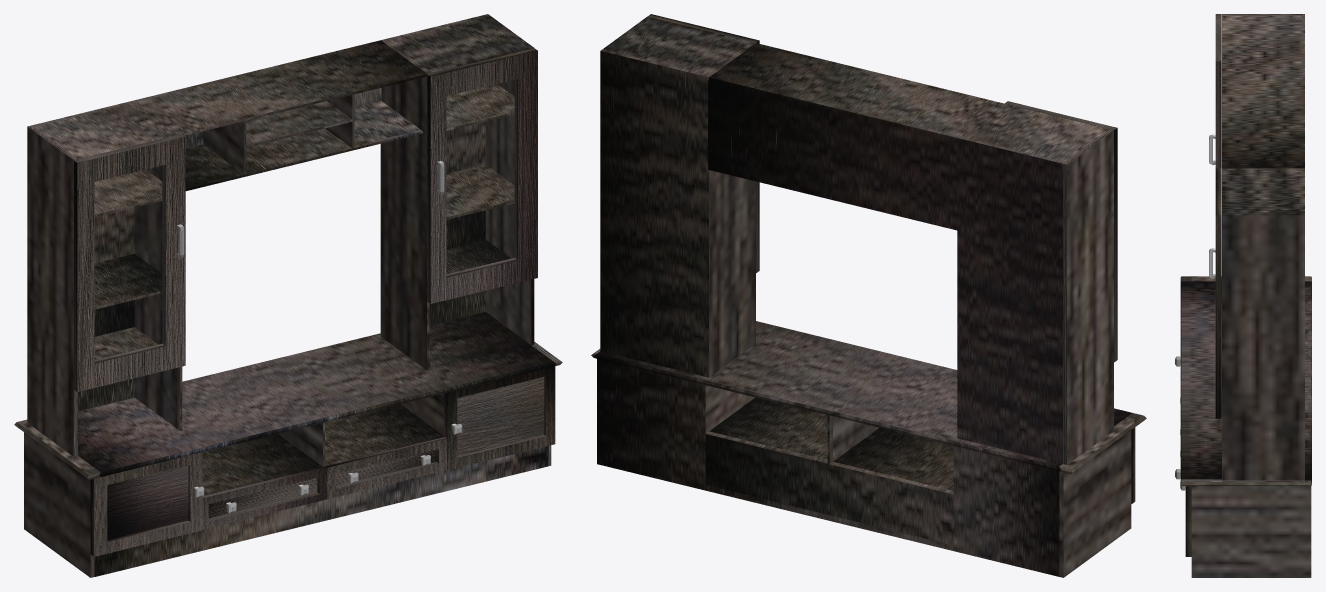
Rendered from royaloka_tvset.obj.
The picture shows the model from 3 angles, left to right: view 1: azimuth 30°, elevation 25°; view 2: azimuth 150°, elevation 25°; view 3: azimuth 270°, elevation 25°; orthographic projection. The views are drawn at different scales.
Visible parts, largest first — view 1: Cube.001, Cube.006_Cube.008, Cube.007_Cube.009, Cube.002_Cube.003, Cube.003_Cube.004, Cube.004_Cube.005, Cube.005_Cube.006; view 2: Cube.001, Cube.006_Cube.008, Cube.007_Cube.009; view 3: Cube.001, Cube.007_Cube.009, Cube.006_Cube.008, Cube.003_Cube.004.
Part boxes in pixels (left/top/right/bottom): Cube.001: left=14, top=14, right=562, bottom=577; Cube.006_Cube.008: left=74, top=134, right=185, bottom=391; Cube.007_Cube.009: left=427, top=48, right=537, bottom=303; Cube.002_Cube.003: left=90, top=452, right=202, bottom=556; Cube.003_Cube.004: left=444, top=366, right=555, bottom=470; Cube.004_Cube.005: left=202, top=466, right=326, bottom=529; Cube.005_Cube.006: left=325, top=437, right=446, bottom=499; Cube.001: left=591, top=16, right=1146, bottom=577; Cube.006_Cube.008: left=1005, top=101, right=1117, bottom=362; Cube.007_Cube.009: left=648, top=14, right=759, bottom=272; Cube.001: left=1180, top=14, right=1311, bottom=577; Cube.007_Cube.009: left=1215, top=168, right=1221, bottom=418; Cube.006_Cube.008: left=1215, top=14, right=1221, bottom=168; Cube.003_Cube.004: left=1185, top=486, right=1191, bottom=556.
Bounding box in the file's own units: 82.3 × 67.04 × 22.92.
2 materials, 2 textured.
